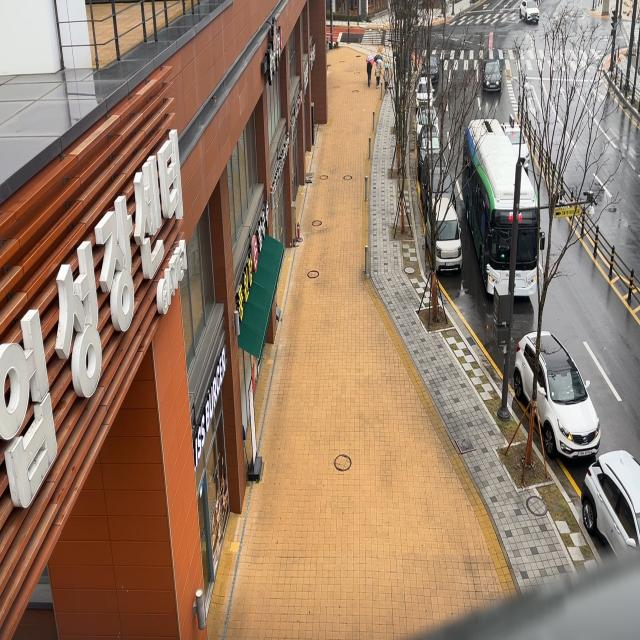Bus: (458, 122, 538, 319)
Car: (513, 330, 603, 463), (576, 446, 636, 554), (428, 198, 462, 273), (418, 155, 457, 211), (501, 115, 535, 167), (474, 53, 506, 102), (420, 43, 446, 87), (414, 101, 444, 136), (416, 127, 442, 164), (414, 77, 435, 111), (518, 0, 540, 28)
